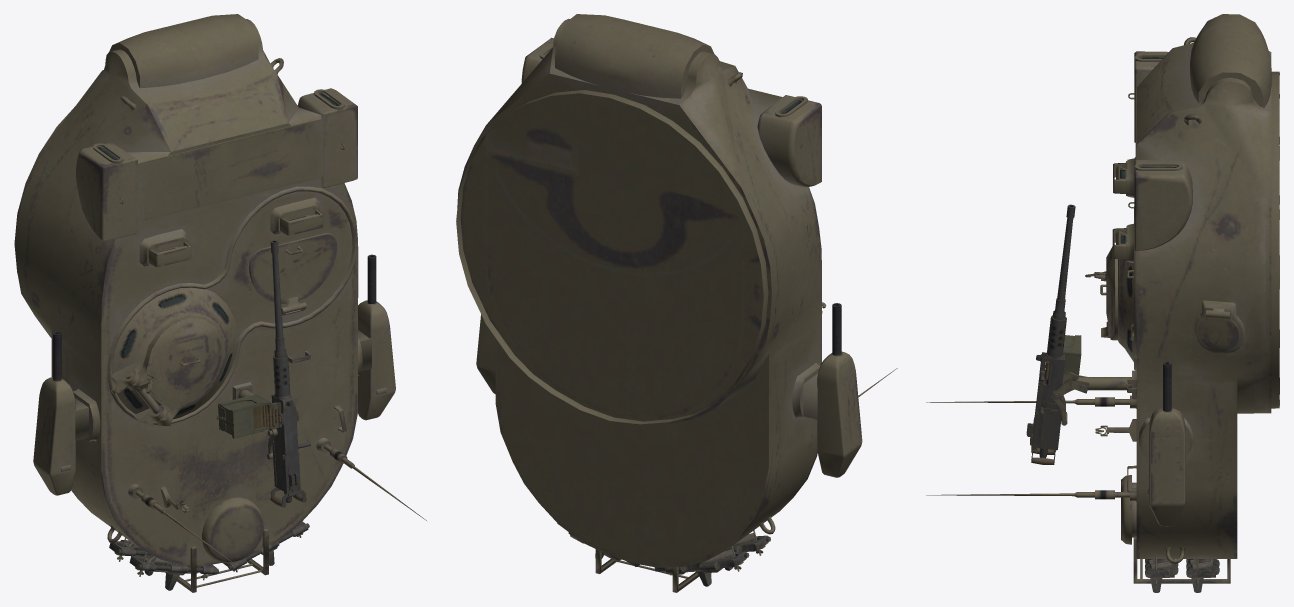
The model's file is Turret_01.glb.
3 renders of one model, left to right at view 1: azimuth 30°, elevation 25°; view 2: azimuth 150°, elevation 25°; view 3: azimuth 270°, elevation 25°, orthographic. The views are drawn at different scales.
Parts seen in each view (by area): view 1: set_0_group_0; view 2: set_0_group_0; view 3: set_0_group_0.
Part boxes in pixels (x1,y1,x2,y2): set_0_group_0: (14, 14, 426, 592); set_0_group_0: (456, 14, 897, 592); set_0_group_0: (926, 14, 1279, 592).
Size of the model in its own units: 2.37 by 3.43 by 2.08.
1 material, 1 textured.
